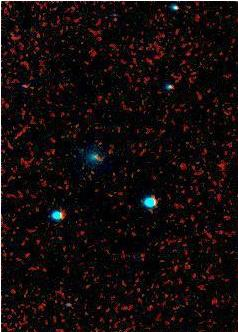star: (165, 148, 195, 178)
